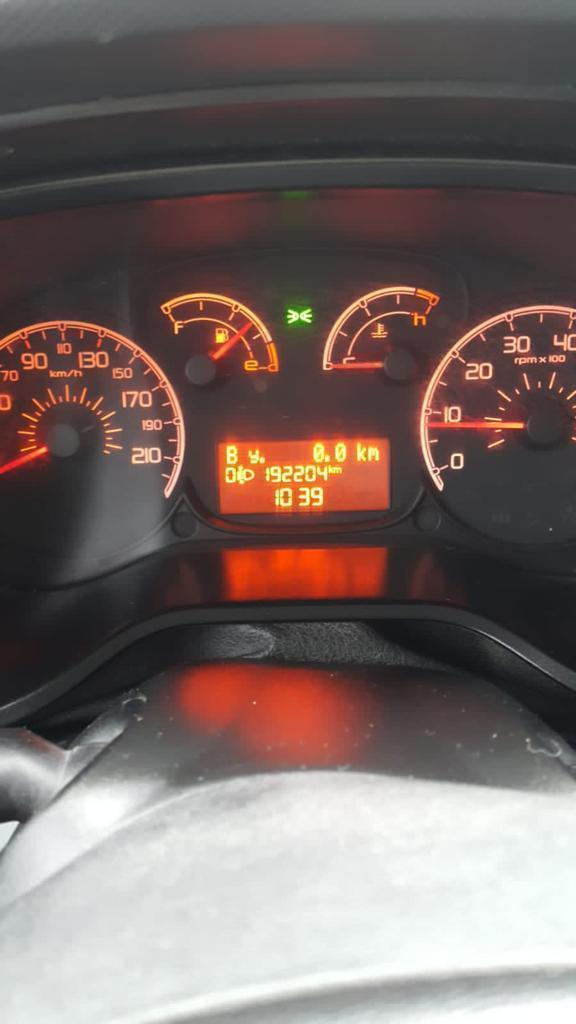,: (324, 453, 331, 462), (259, 455, 266, 464)
0: (334, 441, 347, 463), (279, 487, 293, 507), (312, 442, 325, 462), (224, 465, 236, 483), (305, 464, 316, 481)
1: (273, 487, 279, 506), (265, 466, 270, 483)
2: (293, 464, 304, 482), (281, 465, 292, 482)
3: (297, 486, 310, 506)
4: (316, 464, 327, 481)
9: (310, 486, 324, 506), (270, 465, 280, 483)
X: (225, 443, 238, 464), (356, 440, 367, 463), (247, 447, 259, 464), (367, 446, 379, 461), (333, 466, 343, 474), (327, 463, 333, 474)
odometer: (214, 432, 395, 515)
